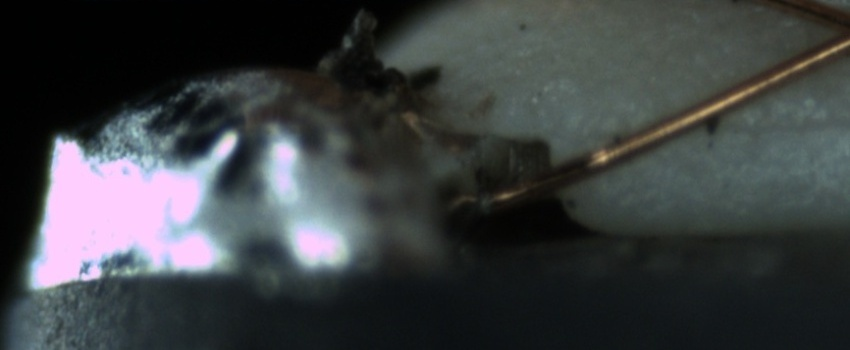CL: (804, 1, 850, 64)
DL: (696, 92, 850, 159)
